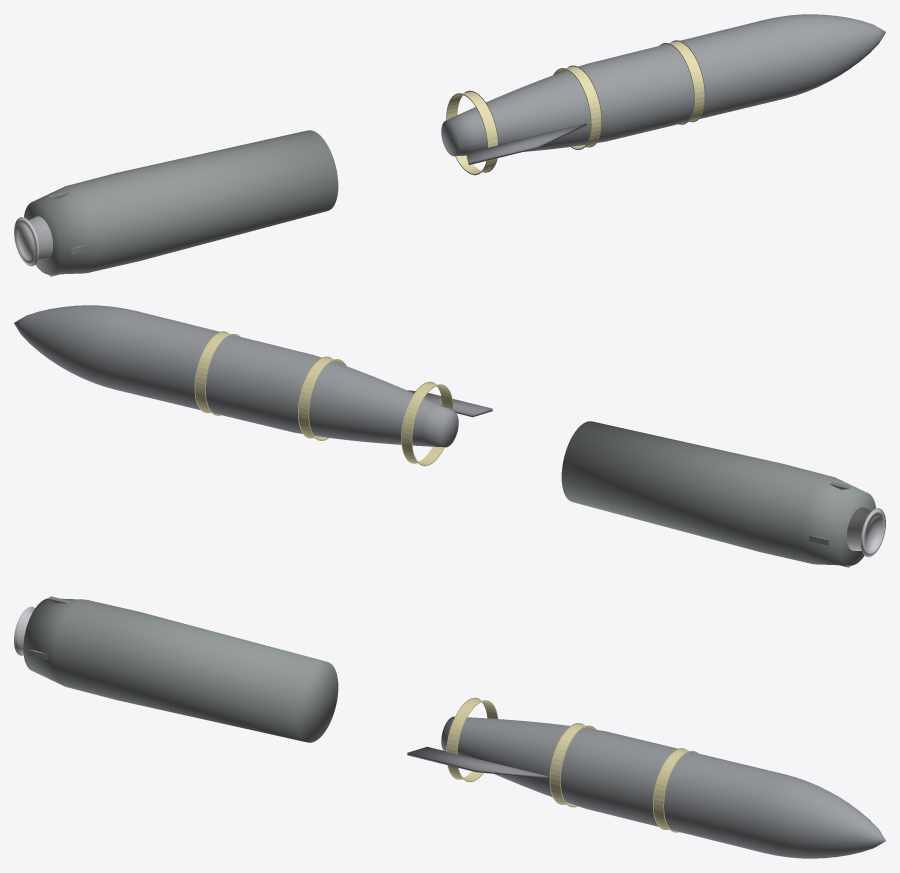
The model's file is RU_ASW_Otvet_LOD0.fbx.
The picture shows the model from 3 angles, top to bottom: view 1: azimuth 30°, elevation 25°; view 2: azimuth 150°, elevation 25°; view 3: azimuth 330°, elevation 25°; orthographic projection.
Parts seen in each view (by area): view 1: WPN_RU_ASW_Otvet_LOD0_Body, WPN_RU_ASW_Otvet_LOD0_Tail, WPN_RU_ASW_Otvet_LOD0_Marking, WPN_RU_ASW_Otvet_LOD0_Propulsor, WPN_RU_ASW_Otvet_LOD0_Detail; view 2: WPN_RU_ASW_Otvet_LOD0_Body, WPN_RU_ASW_Otvet_LOD0_Tail, WPN_RU_ASW_Otvet_LOD0_Marking, WPN_RU_ASW_Otvet_LOD0_Propulsor, WPN_RU_ASW_Otvet_LOD0_Detail; view 3: WPN_RU_ASW_Otvet_LOD0_Body, WPN_RU_ASW_Otvet_LOD0_Tail, WPN_RU_ASW_Otvet_LOD0_Marking, WPN_RU_ASW_Otvet_LOD0_Detail.
Boxes of the visible parts, x1,y1,x2,y2 form: WPN_RU_ASW_Otvet_LOD0_Body: (441, 14, 885, 156); WPN_RU_ASW_Otvet_LOD0_Tail: (24, 130, 338, 274); WPN_RU_ASW_Otvet_LOD0_Marking: (446, 40, 705, 175); WPN_RU_ASW_Otvet_LOD0_Propulsor: (14, 216, 53, 266); WPN_RU_ASW_Otvet_LOD0_Detail: (466, 123, 586, 164); WPN_RU_ASW_Otvet_LOD0_Body: (14, 305, 458, 447); WPN_RU_ASW_Otvet_LOD0_Tail: (561, 421, 875, 565); WPN_RU_ASW_Otvet_LOD0_Marking: (194, 331, 453, 466); WPN_RU_ASW_Otvet_LOD0_Propulsor: (846, 507, 885, 557); WPN_RU_ASW_Otvet_LOD0_Detail: (407, 390, 492, 417); WPN_RU_ASW_Otvet_LOD0_Body: (441, 716, 885, 858); WPN_RU_ASW_Otvet_LOD0_Tail: (23, 598, 338, 742); WPN_RU_ASW_Otvet_LOD0_Marking: (446, 697, 698, 832); WPN_RU_ASW_Otvet_LOD0_Detail: (407, 746, 547, 778).
Size of the model in its own units: 6.5 by 0.7009 by 0.597.
